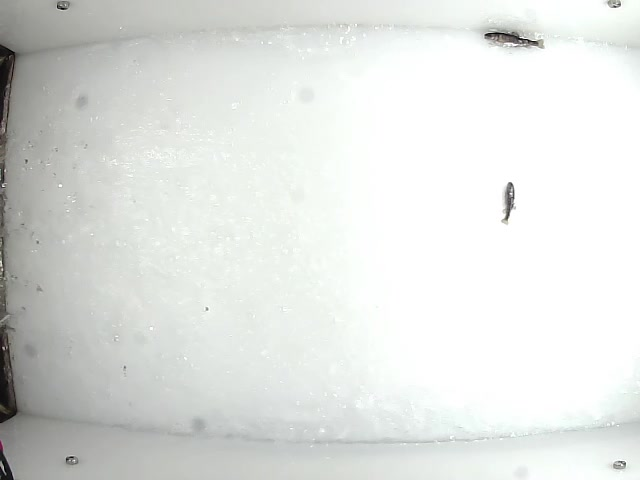fish: (483, 28, 546, 51), (500, 179, 518, 225)
